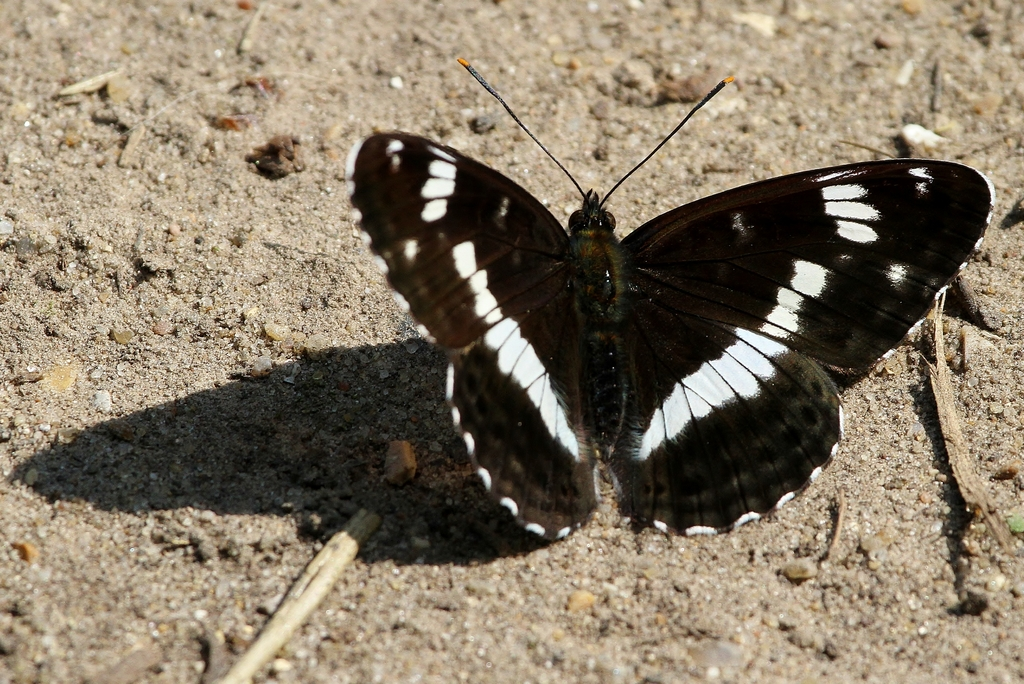Butterfly: (334, 133, 1000, 565)
